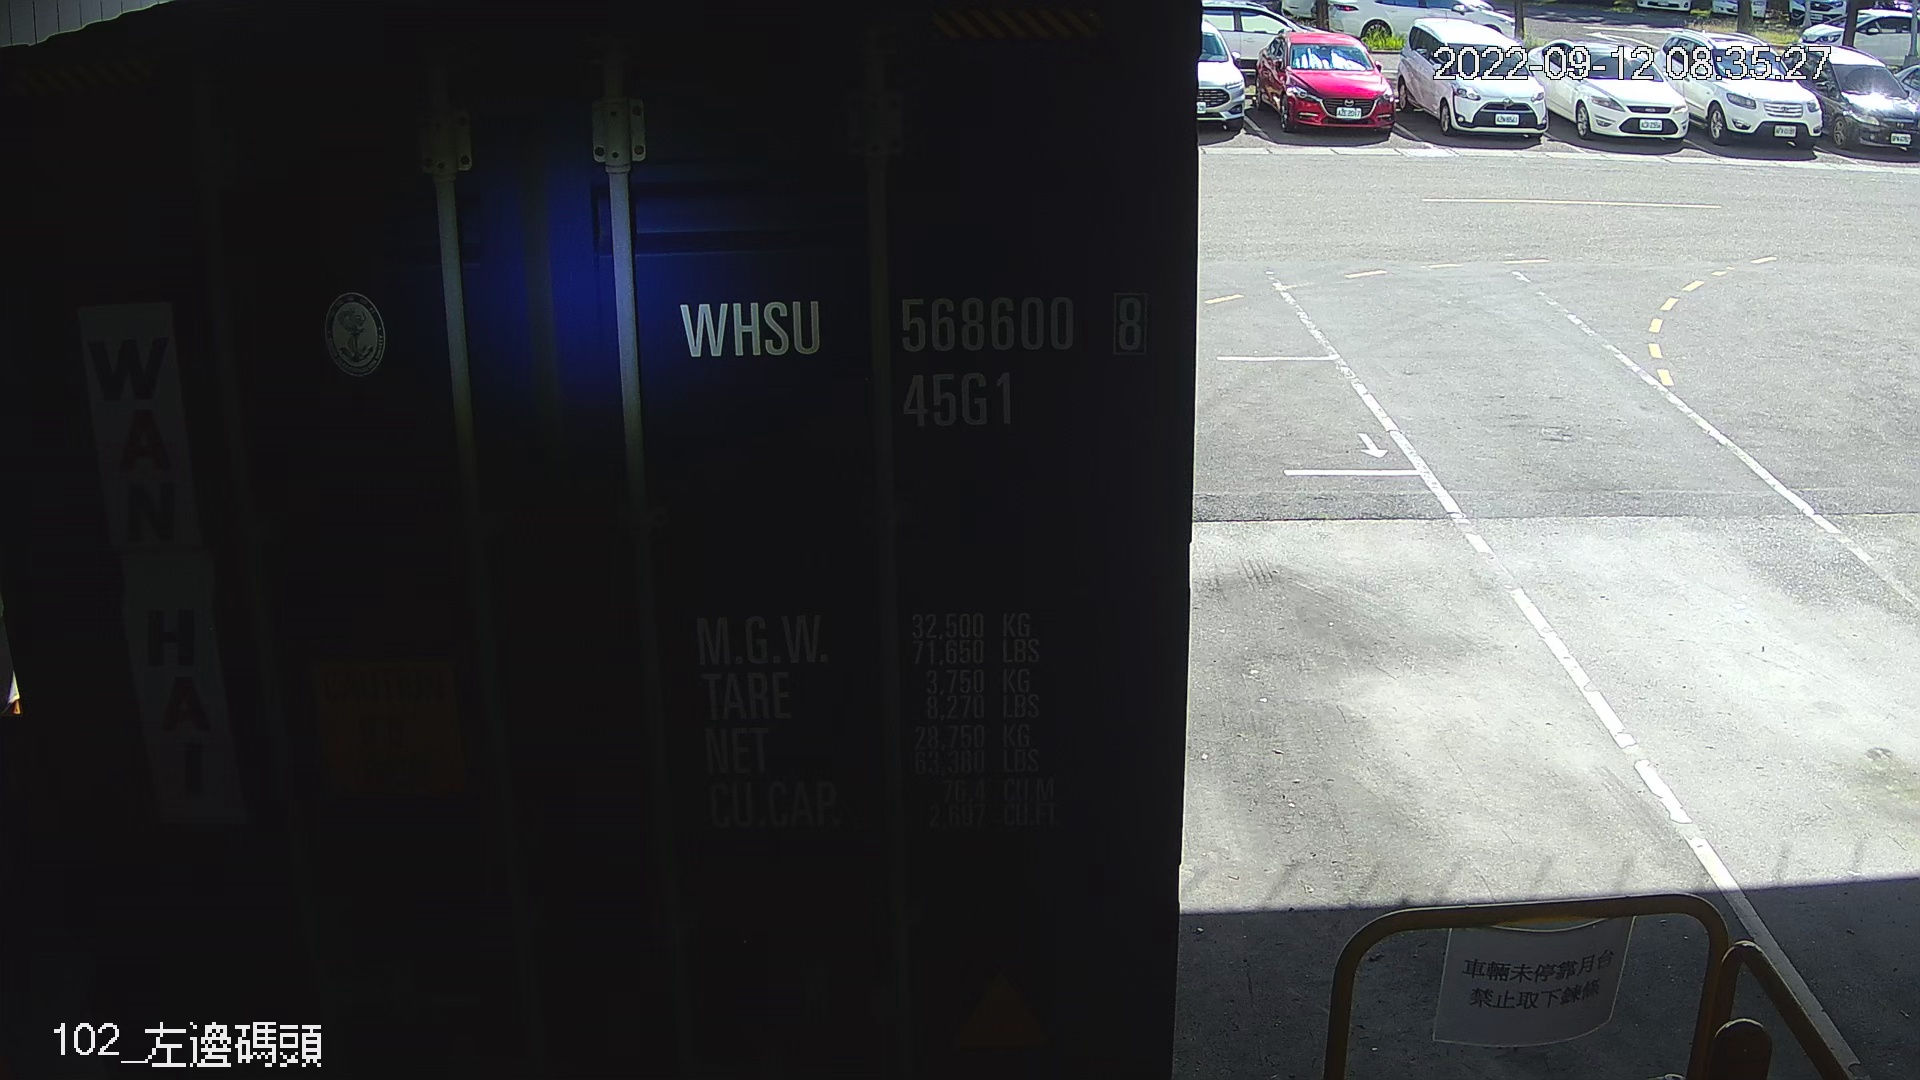container: (659, 262, 1159, 444)
